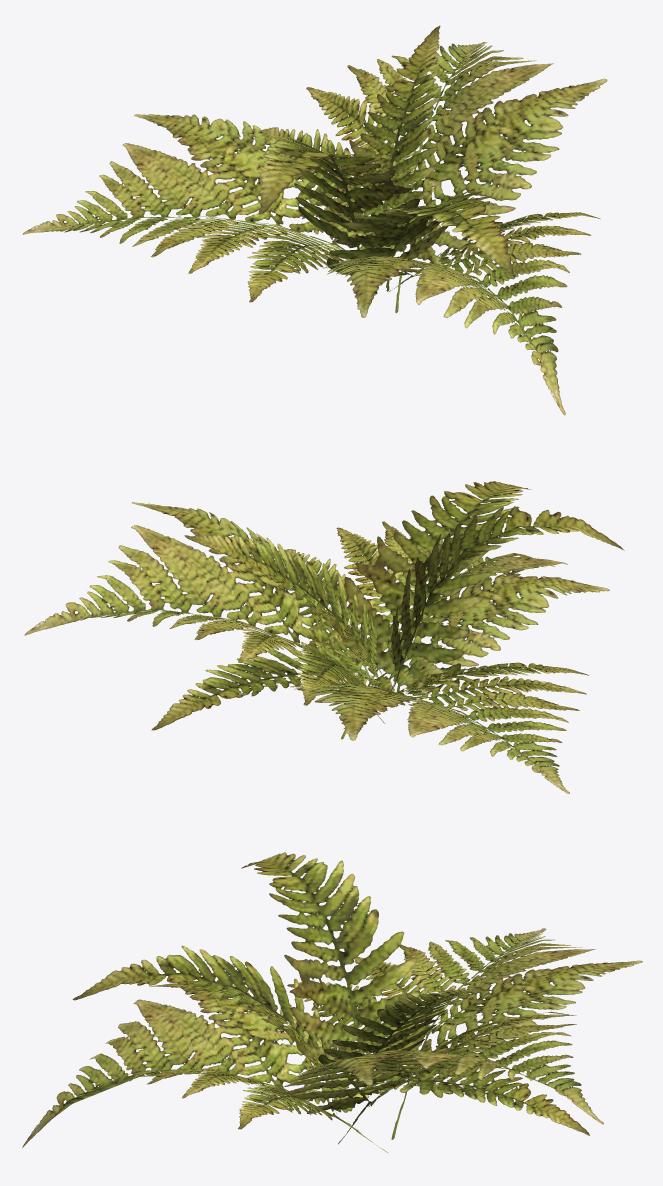
File: Cit_Fern.FBX
The picture shows the model from 3 angles, top to bottom: view 1: azimuth 30°, elevation 25°; view 2: azimuth 150°, elevation 25°; view 3: azimuth 270°, elevation 25°; orthographic projection. The views are drawn at different scales.
Visible parts, largest first — view 1: Cit_Fern; view 2: Cit_Fern; view 3: Cit_Fern.
Part boxes in pixels (left/top/right/bottom): Cit_Fern: left=22, top=25, right=607, bottom=415; Cit_Fern: left=24, top=481, right=624, bottom=793; Cit_Fern: left=22, top=852, right=642, bottom=1152.
Bounding box in the file's own units: 4.76 × 2.02 × 4.87.
